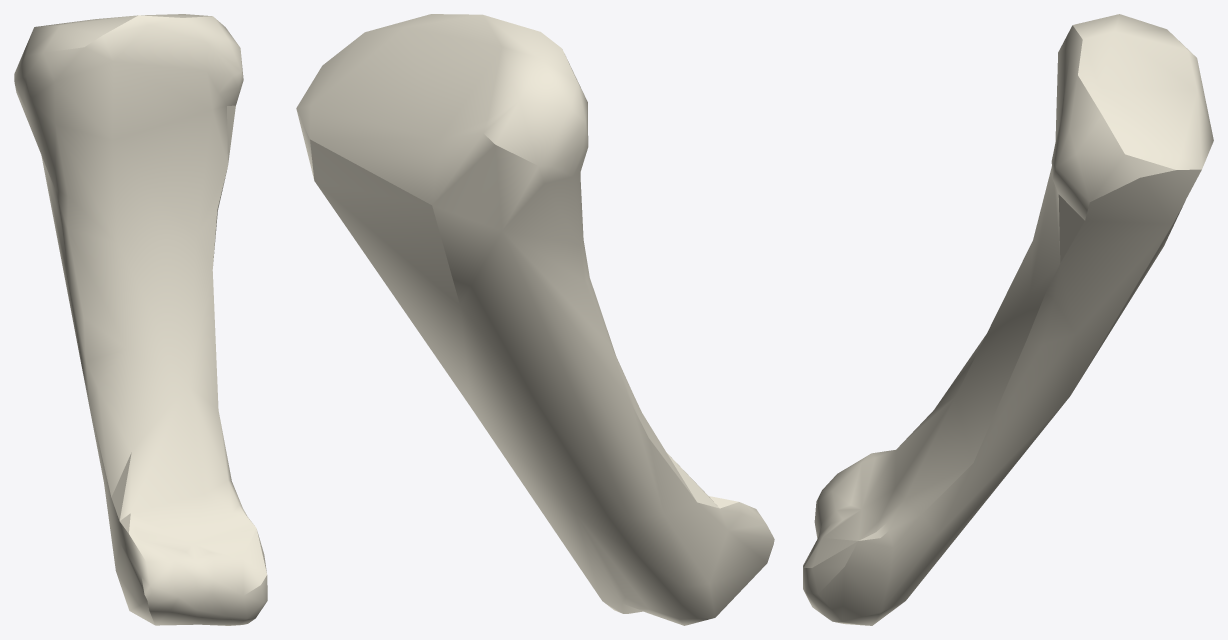
Rendered from fma24454_fj6419.glb.
The picture shows the model from 3 angles, left to right: view 1: azimuth 30°, elevation 25°; view 2: azimuth 150°, elevation 25°; view 3: azimuth 270°, elevation 25°; orthographic projection. The views are drawn at different scales.
Visible parts, largest first — view 1: FMA24454_FJ6419; view 2: FMA24454_FJ6419; view 3: FMA24454_FJ6419.
Boxes of the visible parts, bbox=[...] form: FMA24454_FJ6419: bbox=[14, 14, 267, 625]; FMA24454_FJ6419: bbox=[296, 14, 774, 625]; FMA24454_FJ6419: bbox=[803, 14, 1213, 625].
Size of the model in its own units: 0.0142 by 0.0326 by 0.0205.
